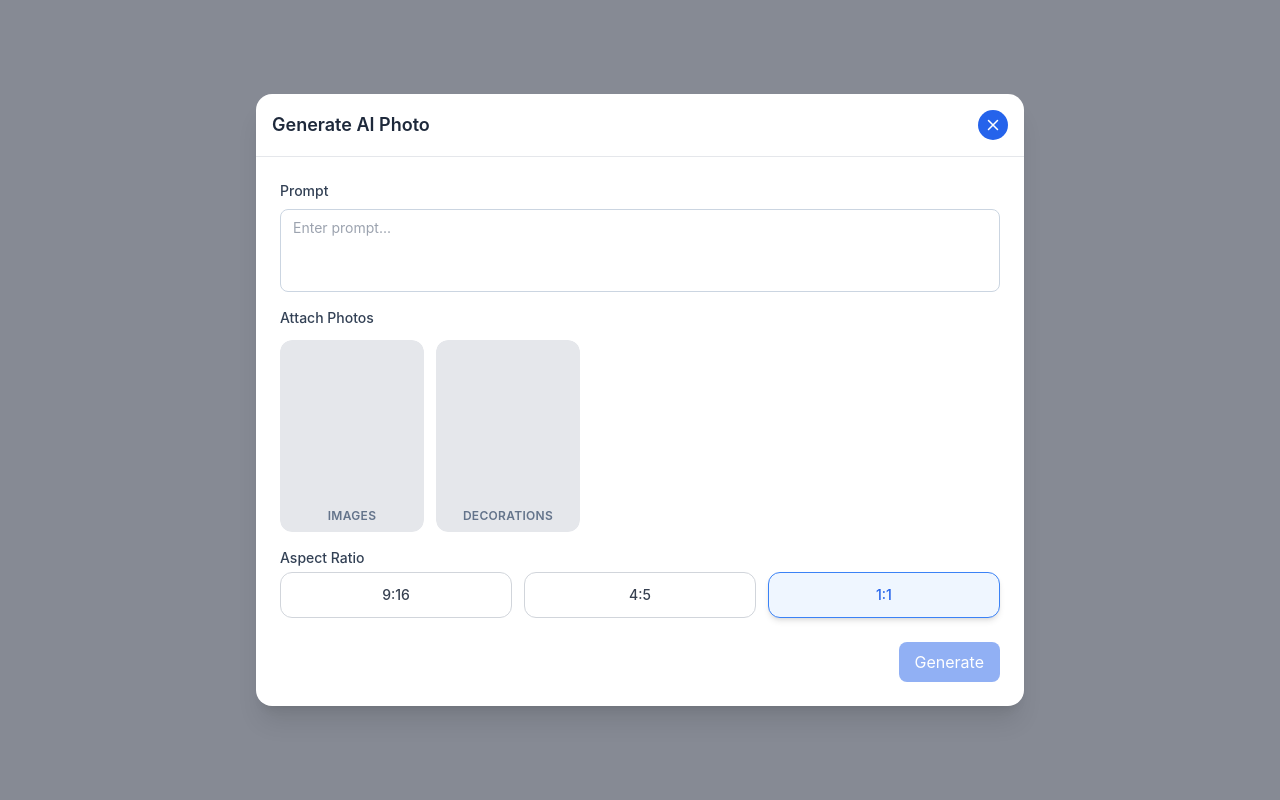
Test: CreateAiPhotoDlg › form reset after successful generation › resets aspectRatio back to 1:1 after successful generation
Click the radio button labelled "9:16" at (396,595), box [280, 572, 512, 618]
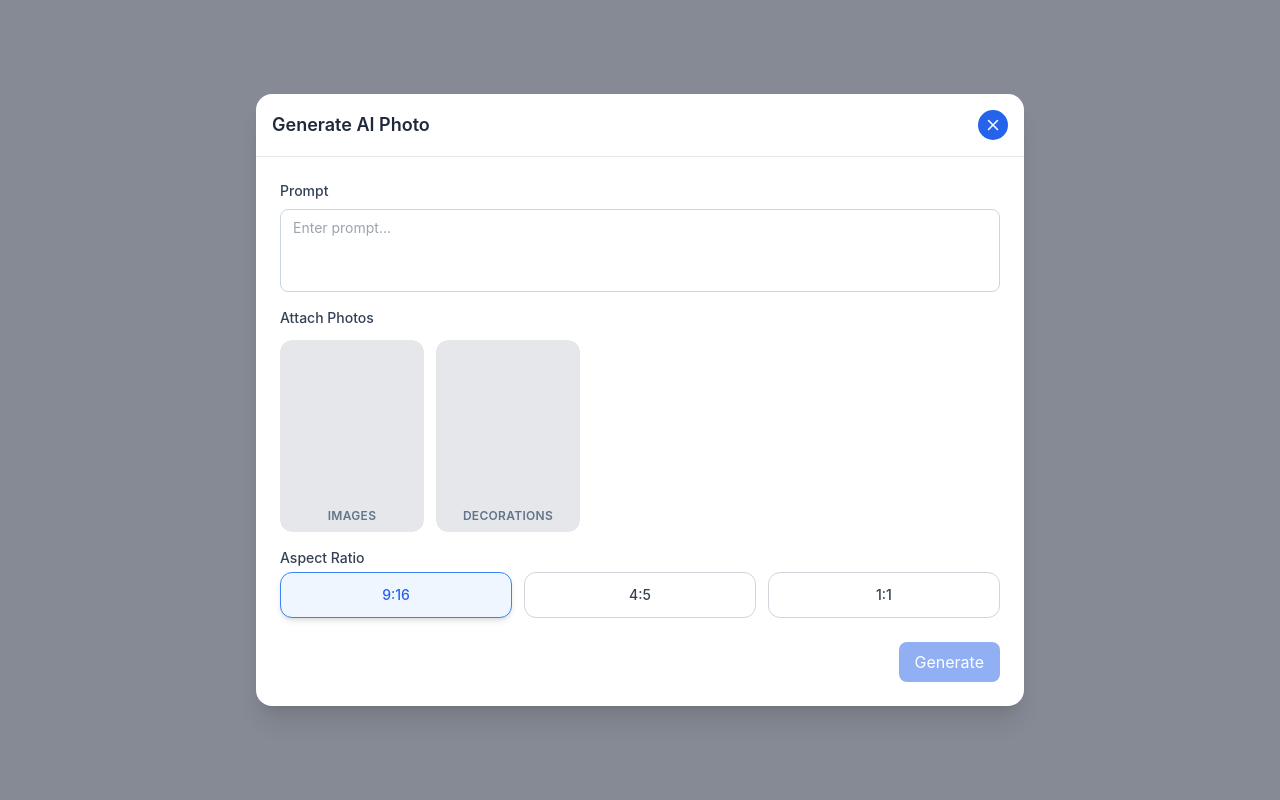
Expected: the radio button labelled "9:16" is checked, [280, 572, 512, 618]
Type "a beach scene" into the text box with placeholder "Enter prompt..." at (640,248), box [293, 218, 987, 278]
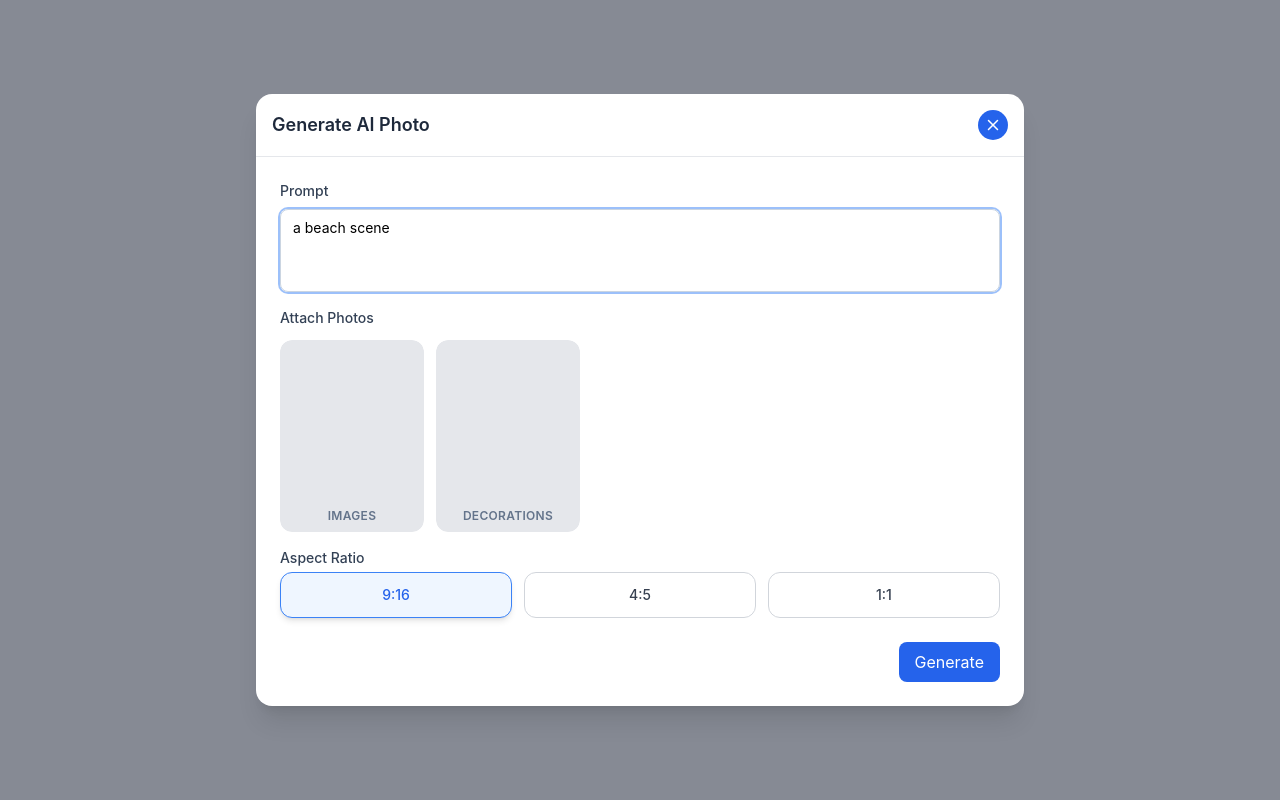
Click the button "Generate" at (949,662), box [898, 642, 1000, 682]
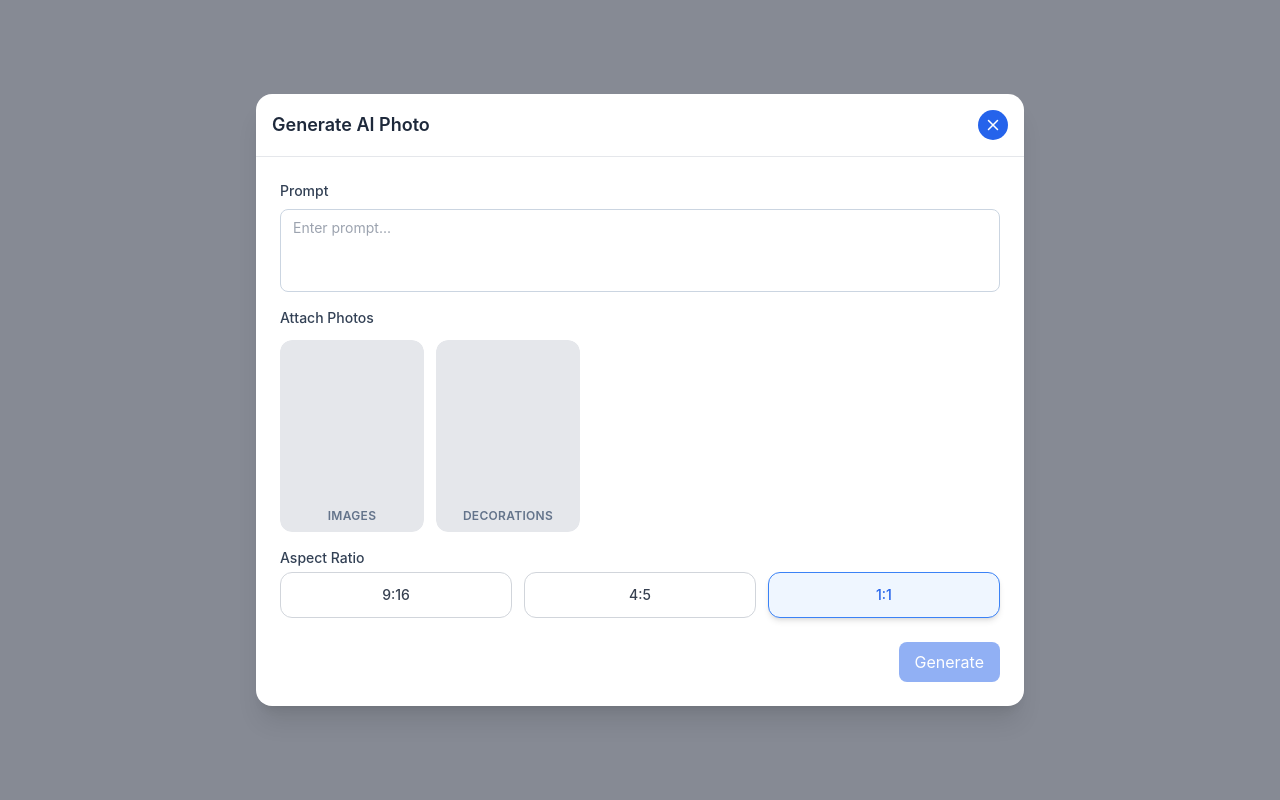
Expected: the radio button labelled "1:1" is checked, [768, 572, 1000, 618]
